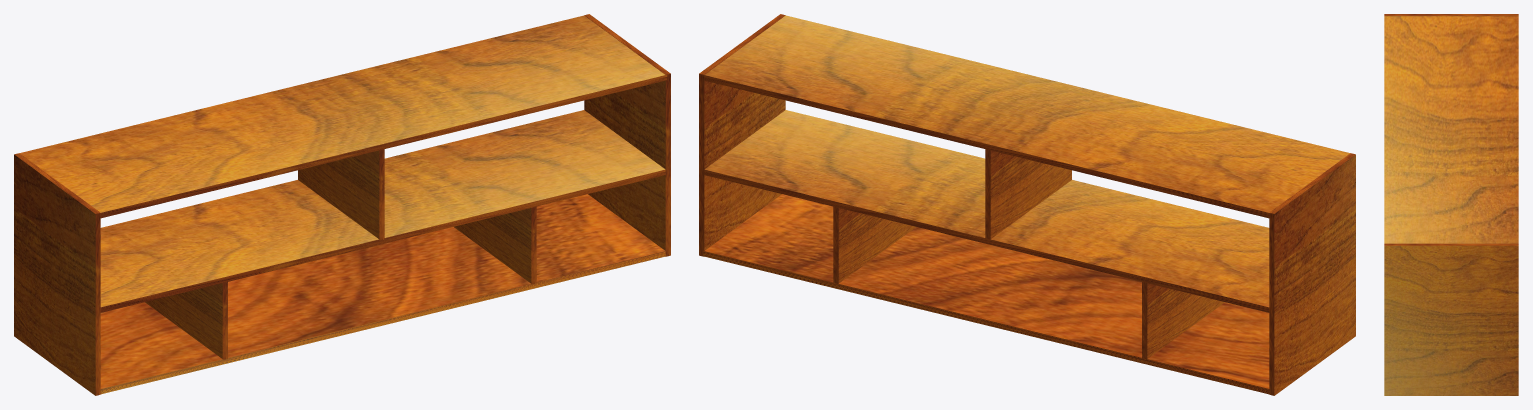
File: polka.fbx
3 views of the same model, side by side, from view 1: azimuth 30°, elevation 25°; view 2: azimuth 150°, elevation 25°; view 3: azimuth 270°, elevation 25° (orthographic). The views are drawn at different scales.
Parts seen in each view (by area): view 1: Cube.001, Cube.004, Cube, Cube.003, Cube.002, Cube.005, Cube.006, Cube.007; view 2: Cube.001, Cube.004, Cube, Cube.003, Cube.002, Cube.005, Cube.006, Cube.007; view 3: Cube.001, Cube.002, Cube.003.
Boxes of the visible parts, x1,y1,x2,y2 form: Cube.001: [19, 15, 667, 218]; Cube.004: [100, 110, 665, 312]; Cube: [100, 194, 665, 394]; Cube.003: [14, 153, 100, 395]; Cube.002: [584, 14, 670, 256]; Cube.005: [298, 148, 384, 240]; Cube.006: [454, 206, 536, 284]; Cube.007: [145, 281, 227, 359]; Cube.001: [704, 15, 1350, 218]; Cube.004: [703, 110, 1269, 312]; Cube: [702, 194, 1269, 394]; Cube.003: [1269, 153, 1355, 395]; Cube.002: [699, 14, 785, 256]; Cube.005: [985, 148, 1071, 239]; Cube.006: [833, 205, 915, 283]; Cube.007: [1142, 282, 1224, 358]; Cube.001: [1384, 16, 1518, 243]; Cube.002: [1384, 243, 1518, 395]; Cube.003: [1384, 14, 1518, 16].
Bounding box in the file's own units: 815 × 246 × 200.
8 materials, 8 textured.
